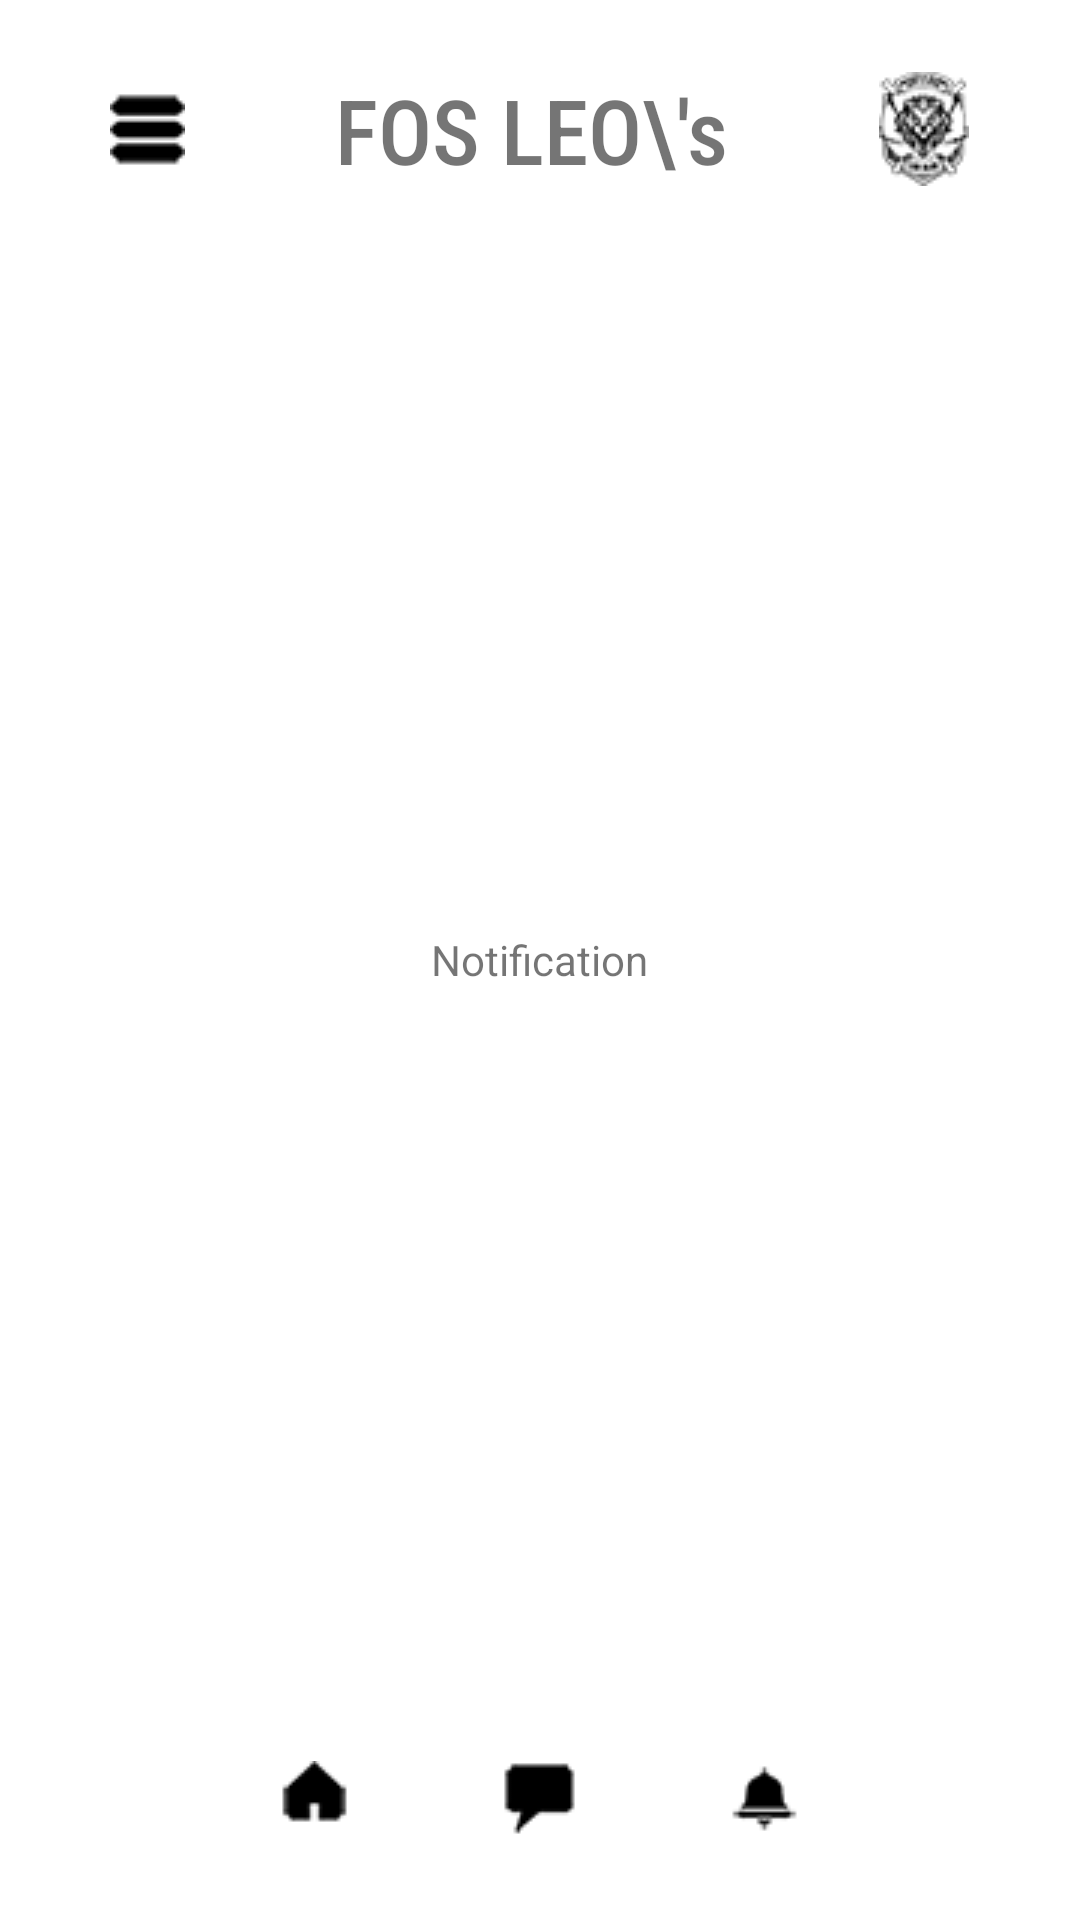

Screen size 1080 x 1920. Icon name, then its center in pixels as point (x, y):
chat: point (539, 1798)
home: point (314, 1791)
menu: point (147, 129)
notification: point (764, 1798)
